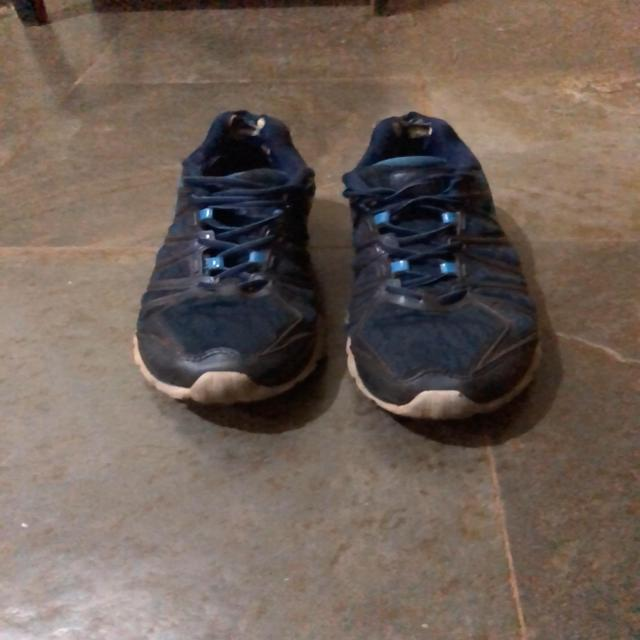shoe: (341, 112, 540, 423), (134, 110, 320, 408)
